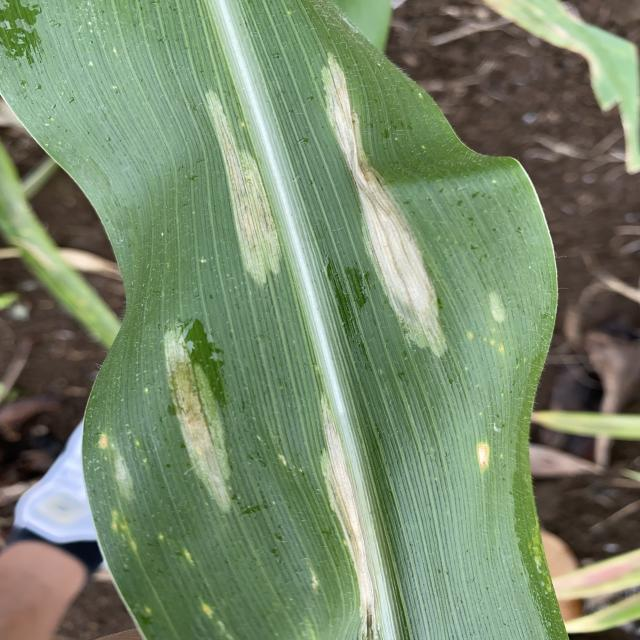Corn_Leaf_Blight: (64, 0, 558, 640)
